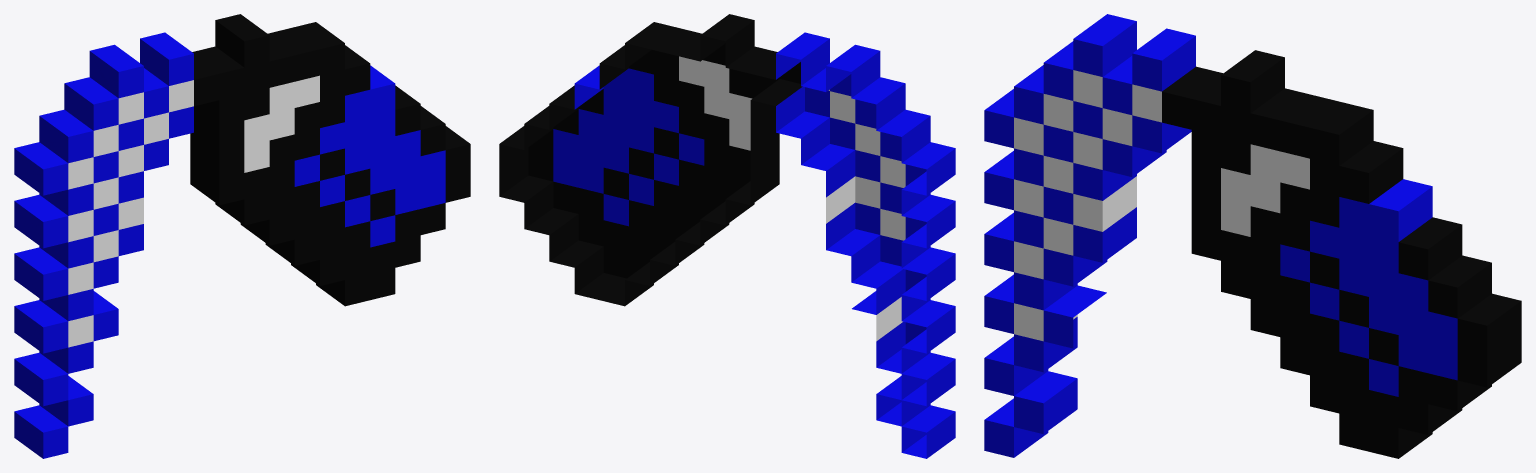
The model's file is Spray.glb.
The picture shows the model from 3 angles, left to right: view 1: azimuth 30°, elevation 25°; view 2: azimuth 150°, elevation 25°; view 3: azimuth 330°, elevation 25°; orthographic projection. The views are drawn at different scales.
Visible parts, largest first — view 1: Spray; view 2: Spray; view 3: Spray.
Part boxes in pixels (left/top/right/bottom): Spray: left=14, top=14, right=470, bottom=458; Spray: left=499, top=14, right=955, bottom=458; Spray: left=984, top=14, right=1521, bottom=458.
Bounding box in the file's own units: 0.85 × 0.7 × 0.1.
